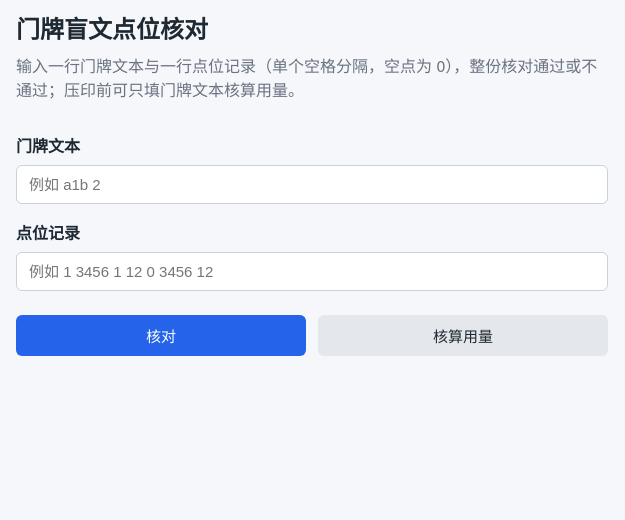
Scenario: App 核算用量 › 核算异常显示在用量区域且不覆盖已有核对结论
The image size is (625, 520).
Type "a1" into the field with test id "text-input". click: [312, 184]
box: [16,165,608,204]
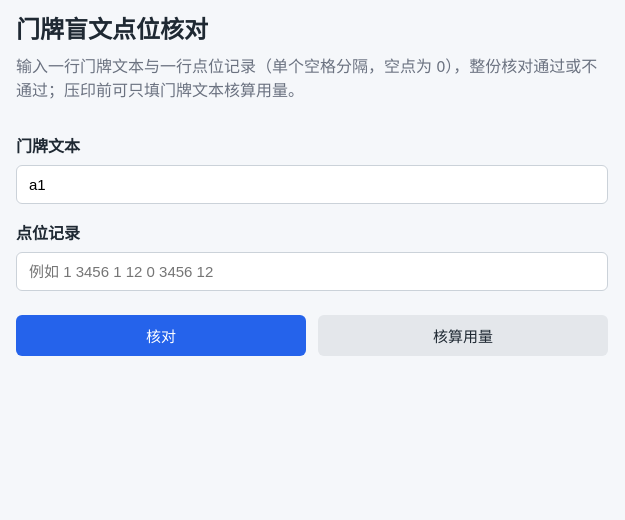
Type "1 3456 1" into the field with test id "cells-input". click: [312, 272]
box: [16,252,608,291]
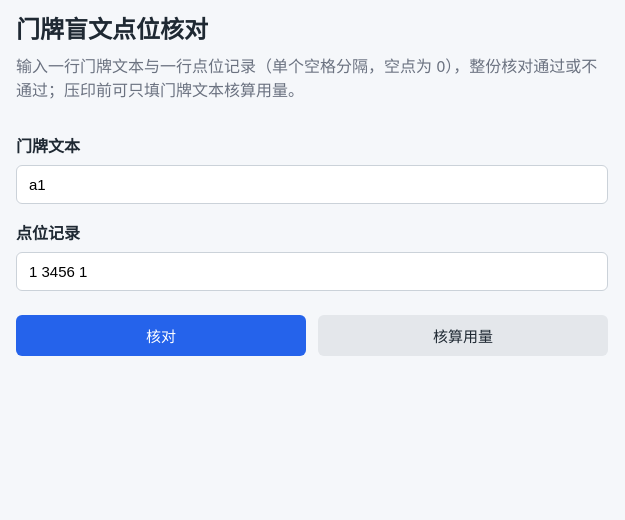
Submit the form from the button with test id "submit", box [16,315,306,356]
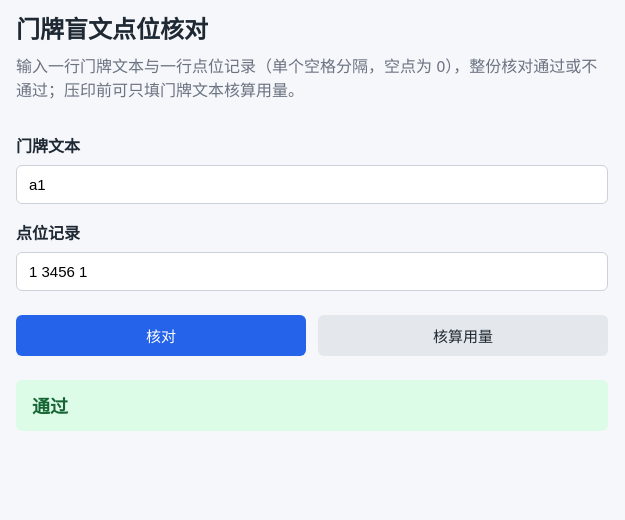
Result: the message with test id "verdict" reads "通过" at [32,393,68,419]
Click the button with test id "usage-submit". click: [463, 336]
box: [318,315,608,356]
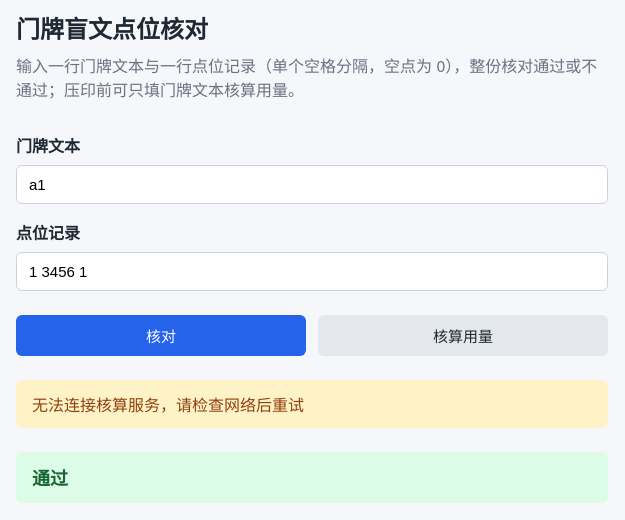
Result: the message with test id "verdict" reads "通过" at [32,465,68,491]
Result: the message with test id "usage-error" shows "无法连接核算服务" at [32,393,304,416]
